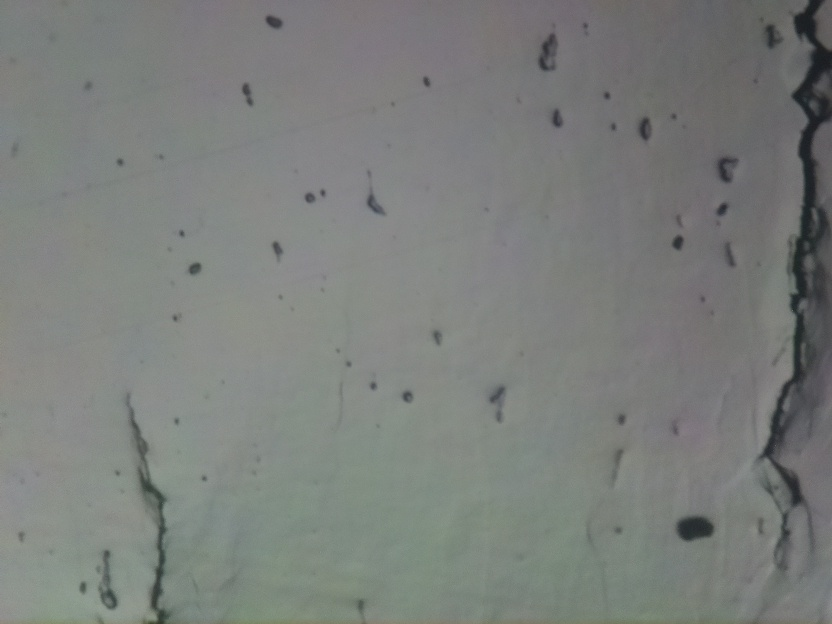crack: (749, 0, 832, 561), (123, 391, 175, 624)
